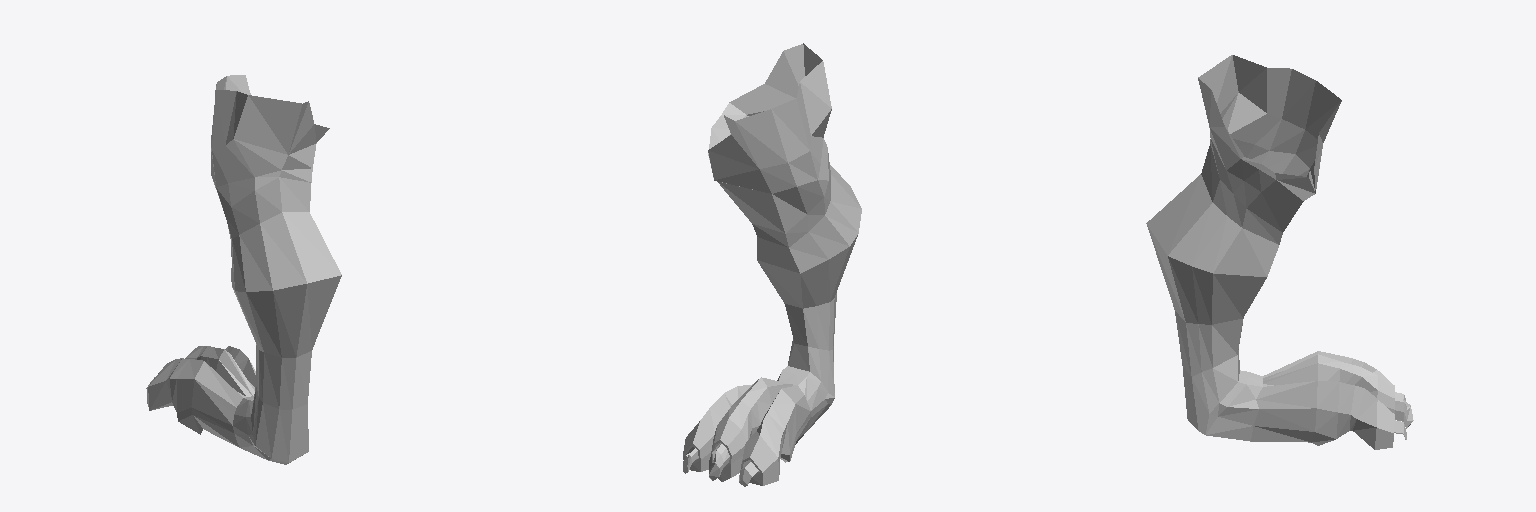
File: PiernaIzqPajaroProyectorPicapiedras.obj
3 views of the same model, side by side, from view 1: azimuth 30°, elevation 25°; view 2: azimuth 150°, elevation 25°; view 3: azimuth 270°, elevation 25° (orthographic).
Parts seen in each view (by area): view 1: polySurface53 polySurface52 dino1:Mesh; view 2: polySurface53 polySurface52 dino1:Mesh; view 3: polySurface53 polySurface52 dino1:Mesh.
Boxes of the visible parts, box(x1,y1,x2,y2) form: polySurface53 polySurface52 dino1:Mesh: box(146, 75, 341, 464); polySurface53 polySurface52 dino1:Mesh: box(683, 43, 861, 486); polySurface53 polySurface52 dino1:Mesh: box(1146, 55, 1413, 449).
Bounding box in the file's own units: 21.86 × 65.79 × 42.82.